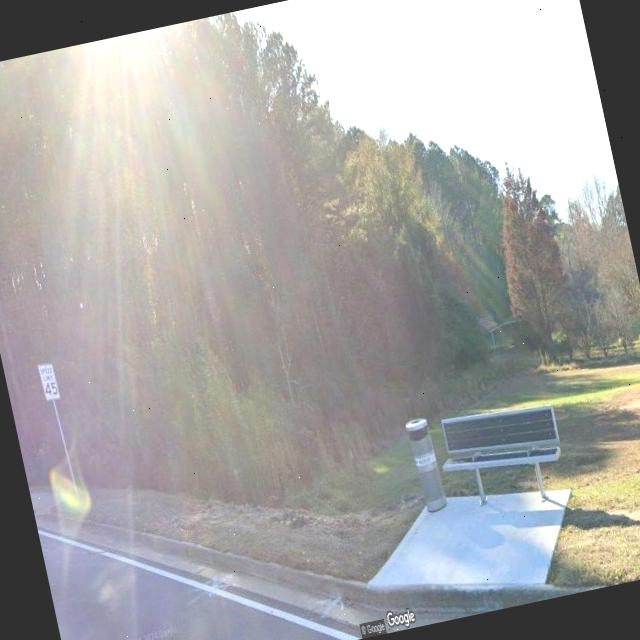seating: (430, 396, 572, 520)
trash_can: (405, 414, 447, 511)
